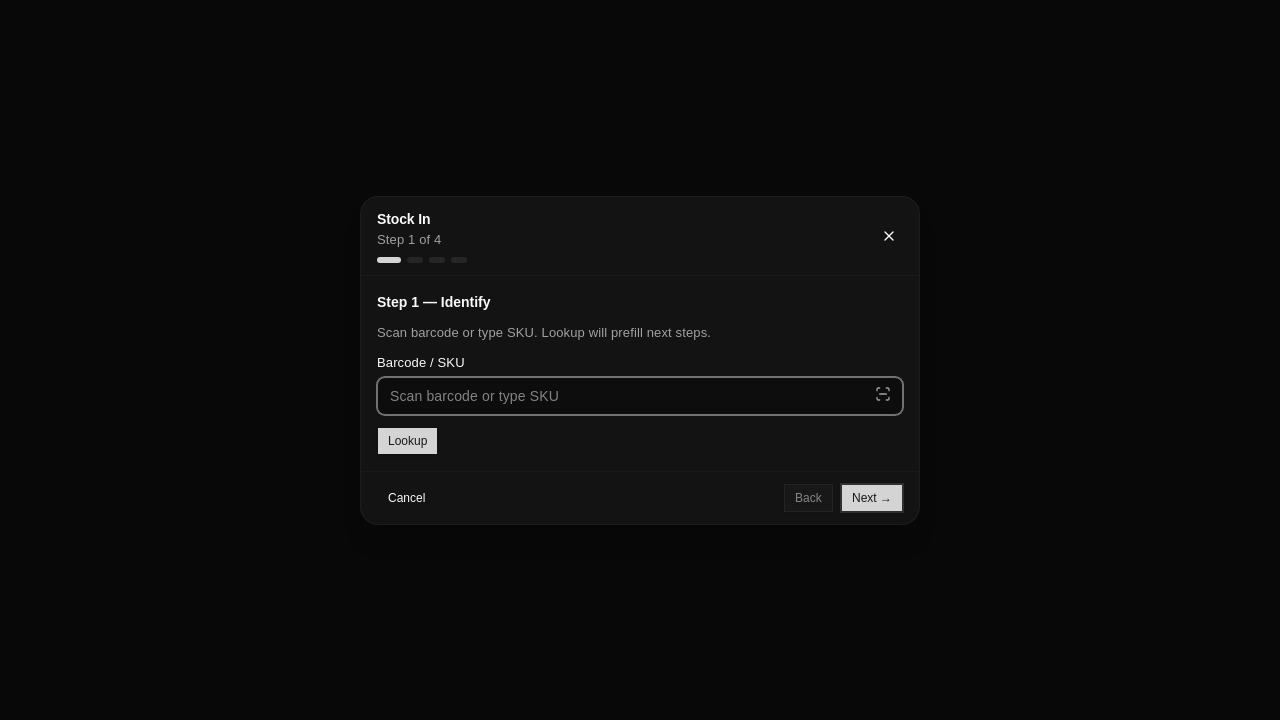
it: StockInWizard — unit compatibility (V4) › disables the pack fields and explains why when the form is box
Type "SKU-BOX" into the field with placeholder "Scan barcode or type SKU" at (640, 395), box [377,376,903,414]
Click the button "Next →" at (872, 497), box [841,483,903,511]
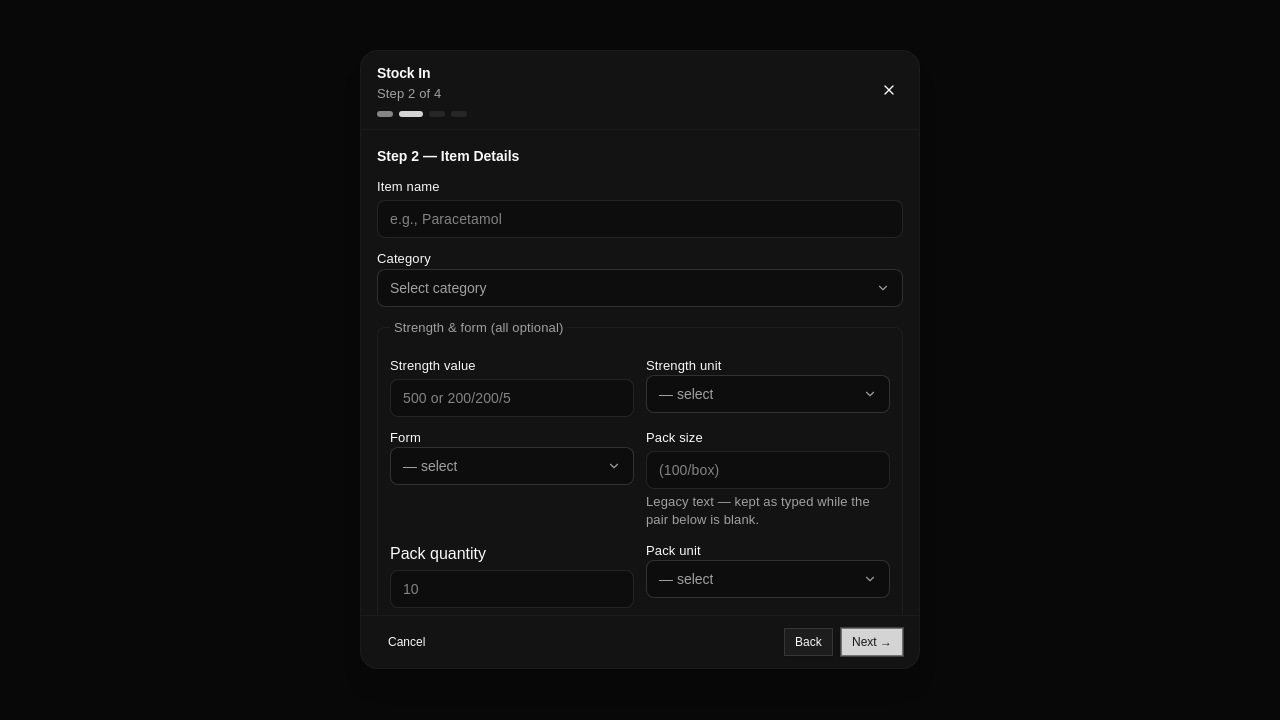
Now the heading "Step 2 — Item Details" is shown, box [377,149,519,165]
Type "Boxed" into the field with placeholder "e.g., Paracetamol" at (640, 220), box [377,201,903,239]
Click the button "Select category" at (438, 288), box [377,269,903,307]
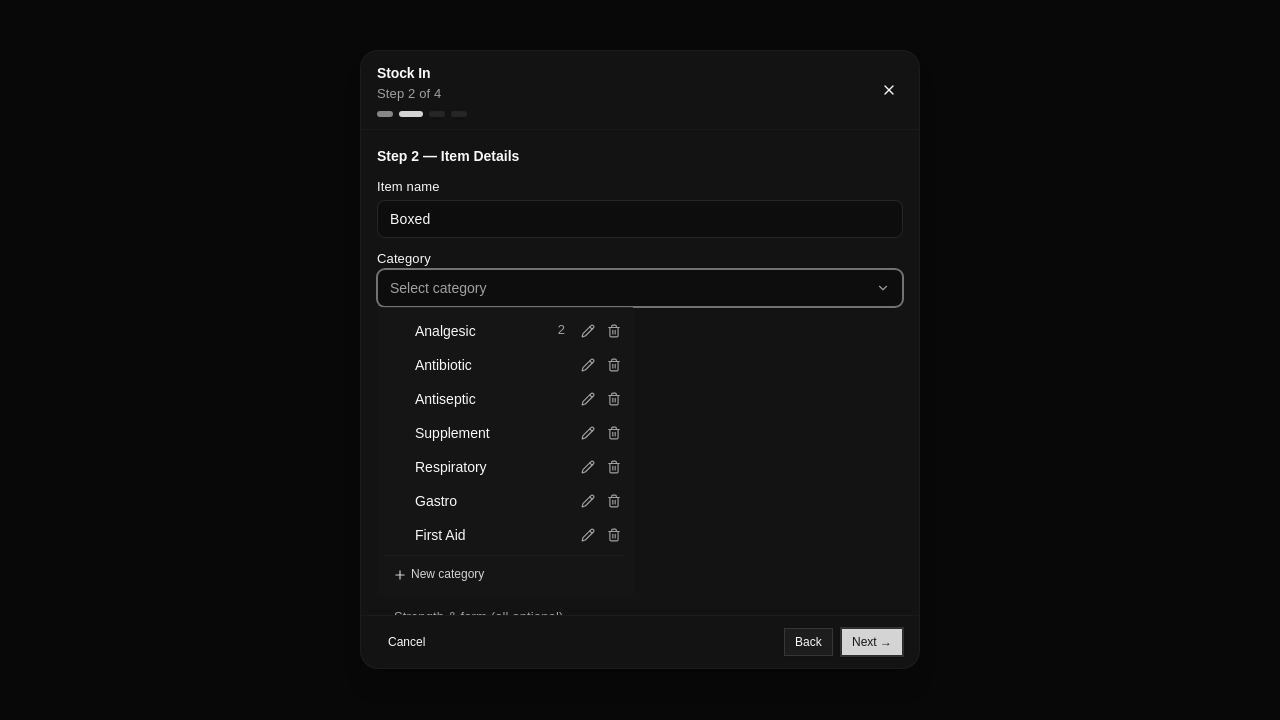
Click the button "Analgesic 2" at (479, 331), box [385,315,573,347]
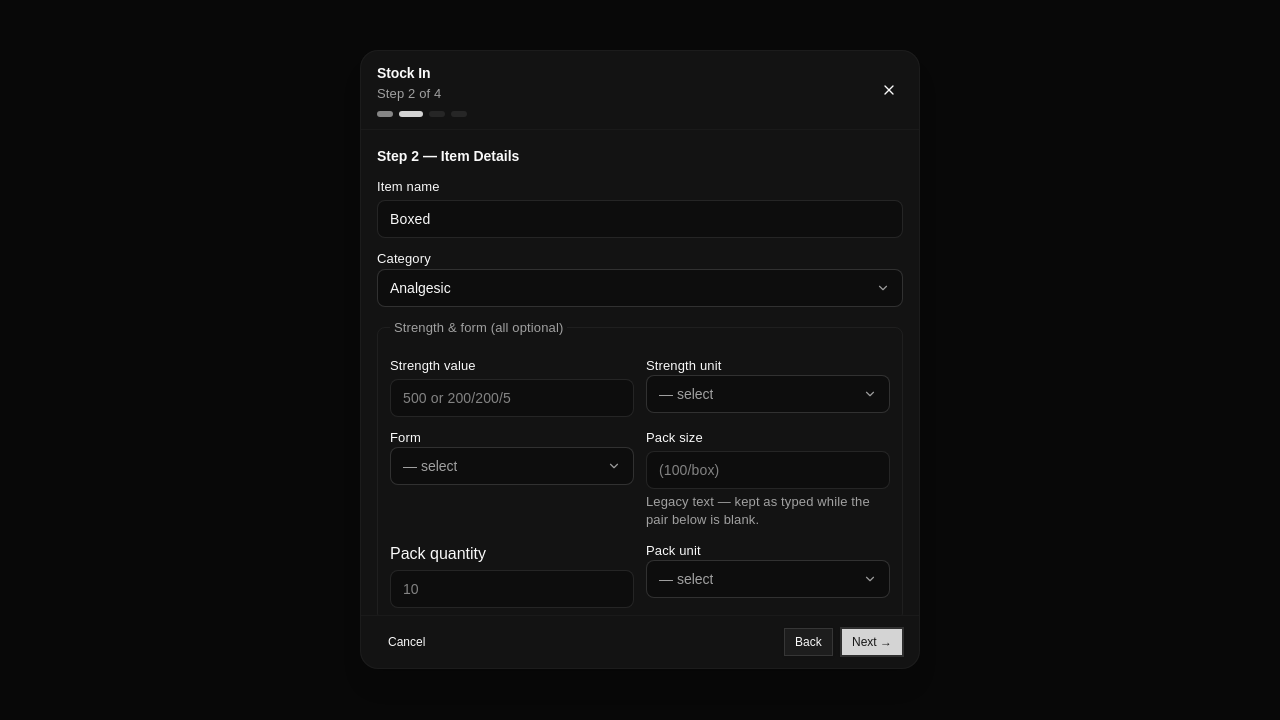
Click the button named "Form" at (512, 466), box [390,448,634,486]
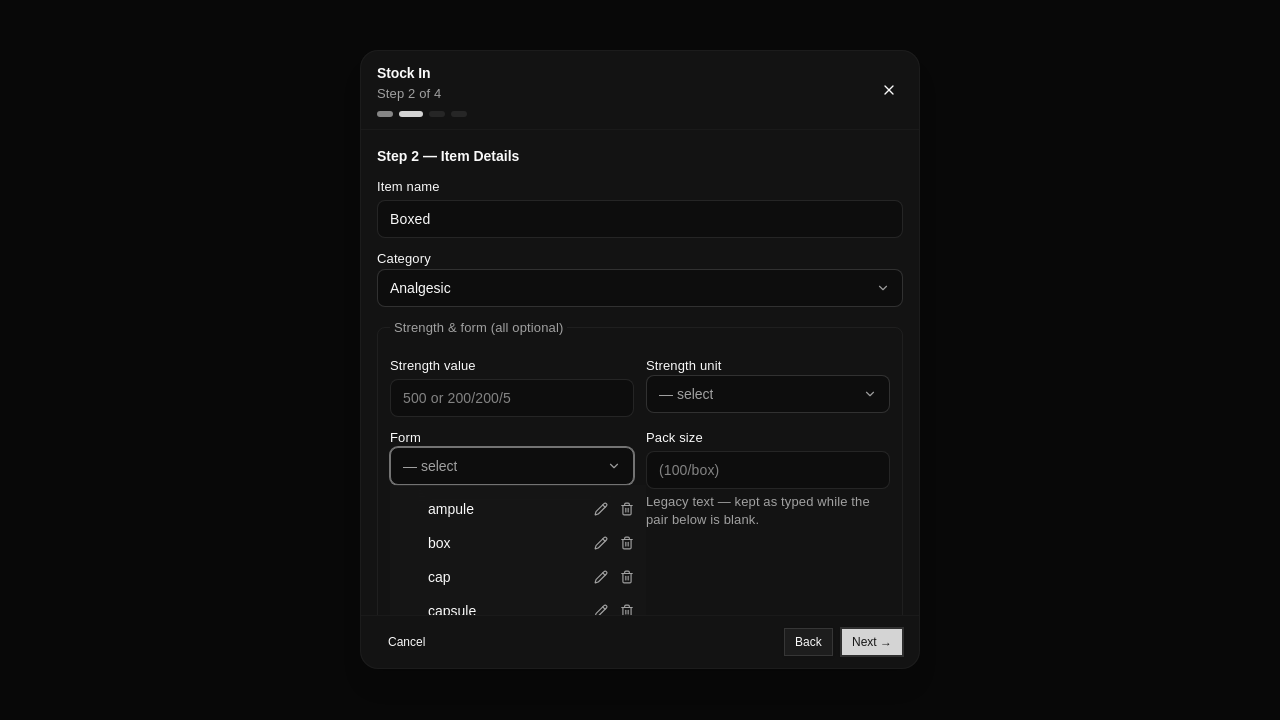
Click the button "box" at (492, 544), box [398,528,586,560]
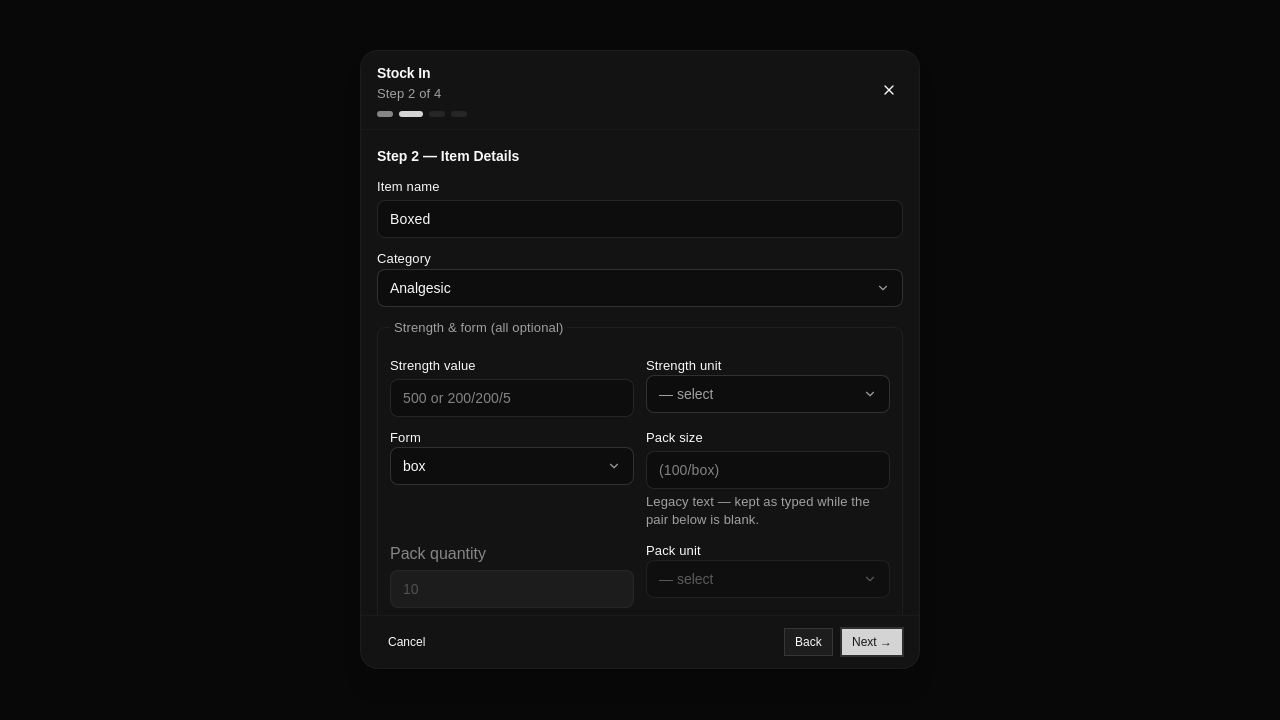
Now the number field labelled "Pack quantity" is disabled, box [390,570,634,608]
Click the button "Next →" at (872, 643), box [841,629,903,657]
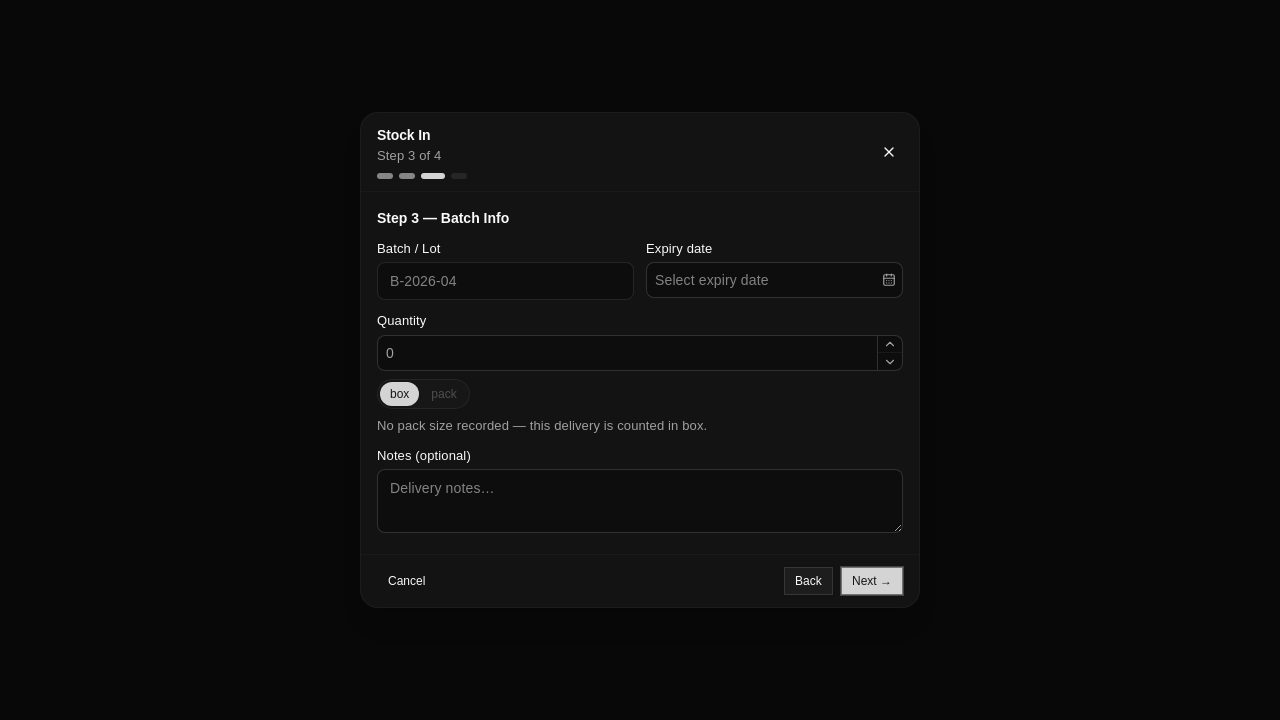
Now the heading "Step 3 — Batch Info" is shown, box [377,210,509,226]
